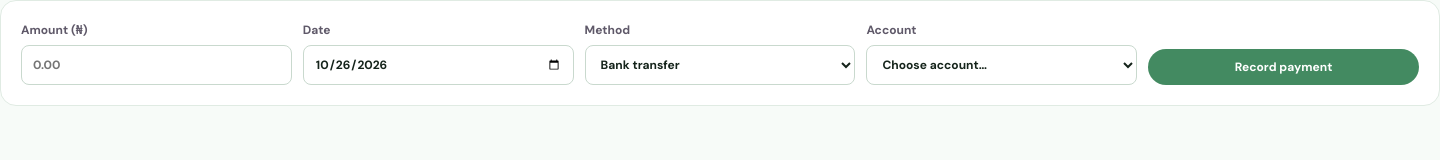
Scenario: shows validation messages and does not submit invalid data
Click the button "Record payment": click(1284, 67) x1=1148 y1=49 x2=1419 y2=85
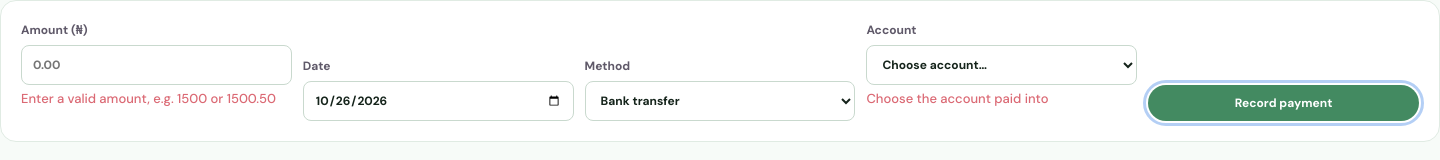
Check: the text "Enter a valid amount, e.g. 1500 or 1500.50" is shown, box x1=21 y1=89 x2=292 y2=108
Check: the text "Choose the account paid into" is shown, box x1=866 y1=90 x2=1048 y2=107
